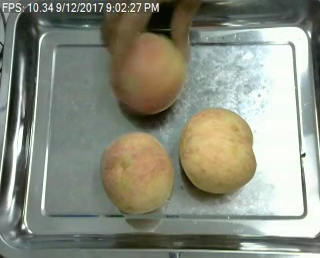Peach: (181, 106, 256, 193), (92, 39, 169, 120), (99, 130, 173, 214)
